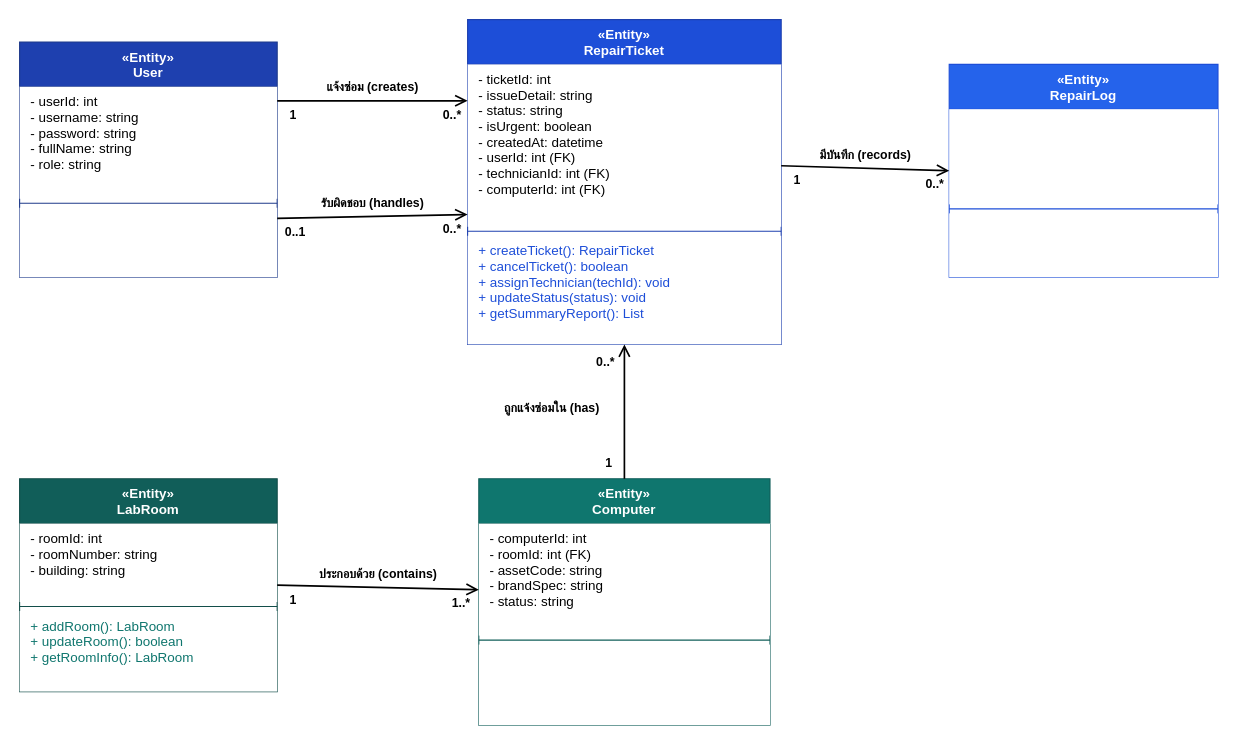
Image size: 1238x748. Some labels were removed from this diagram. The centre of each missing label's shape, as x and y in pixels:
+ addComputer(): Computer + updateComputer(): boolean + getRepairHistory(): List: point (623, 684)
+ addLog(detail): RepairLog + getLogsByTicket(): List: point (1083, 245)
+ login(): boolean + logout(): void: point (148, 242)
- logId: int - ticketId: int (FK) - solutionDetail: string - updatedAt: datetime: point (1083, 156)
